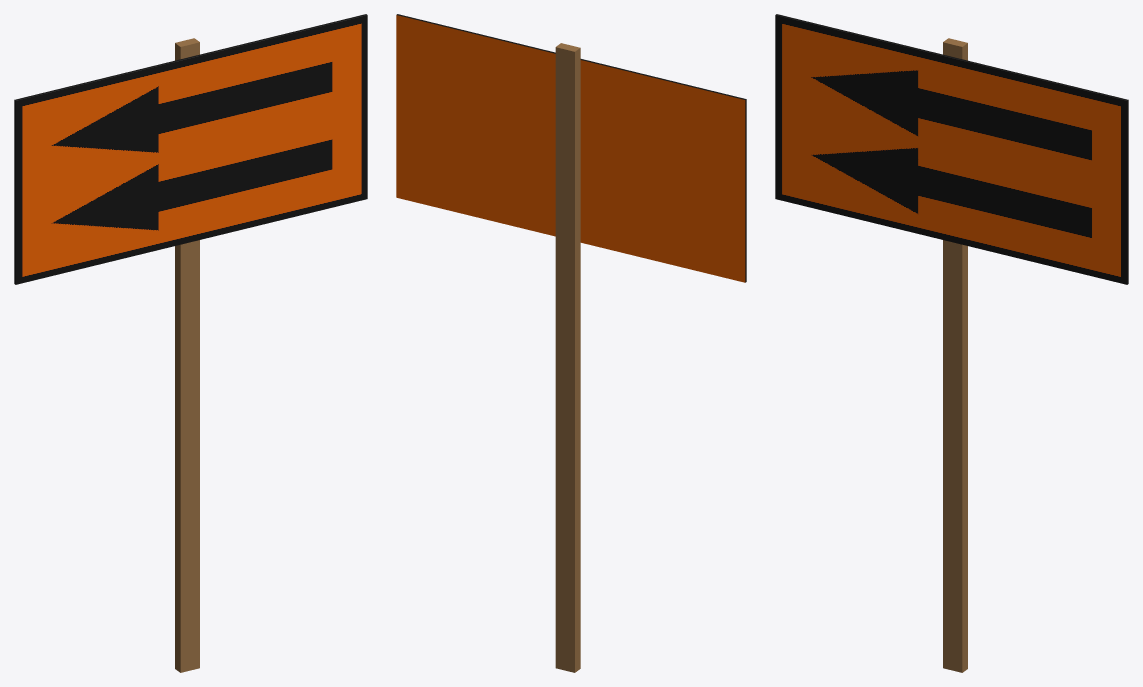
File: arrow2_l.dae
3 renders of one model, left to right at view 1: azimuth 30°, elevation 25°; view 2: azimuth 150°, elevation 25°; view 3: azimuth 330°, elevation 25°, orthographic.
Visible parts, largest first — view 1: marker; view 2: marker; view 3: marker.
Part boxes in pixels (<box>): marker: <box>14,14,367,672</box>; marker: <box>396,14,746,672</box>; marker: <box>775,14,1128,672</box>.
Bounding box in the file's own units: 0.9 × 0.031 × 1.53.
1 material, 1 textured.
